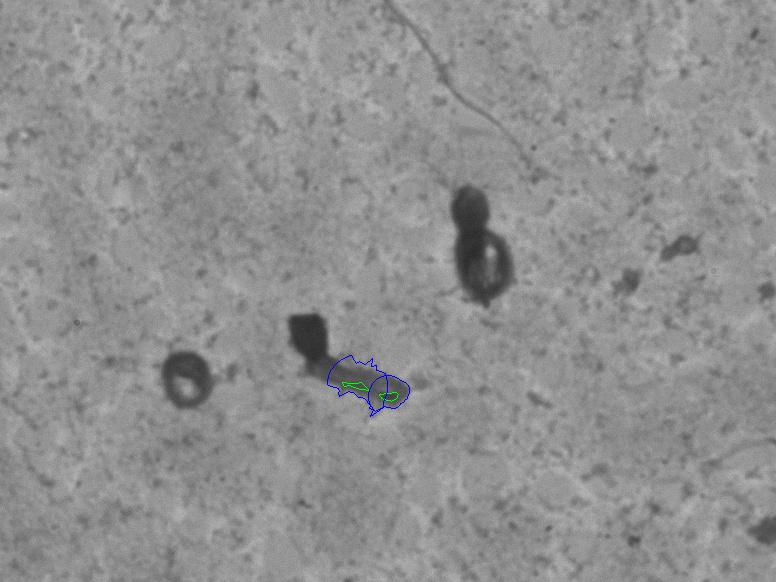Abnormal: (431, 171, 529, 316)
